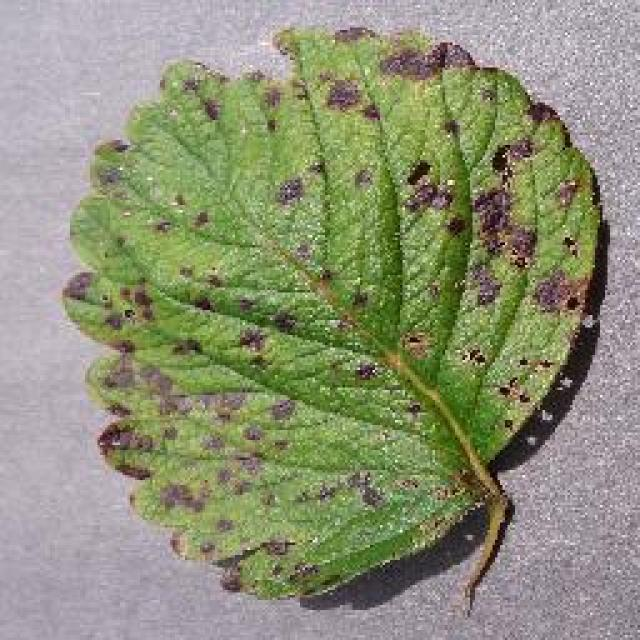Strawberry leaf scorch: (105, 23, 542, 560)
